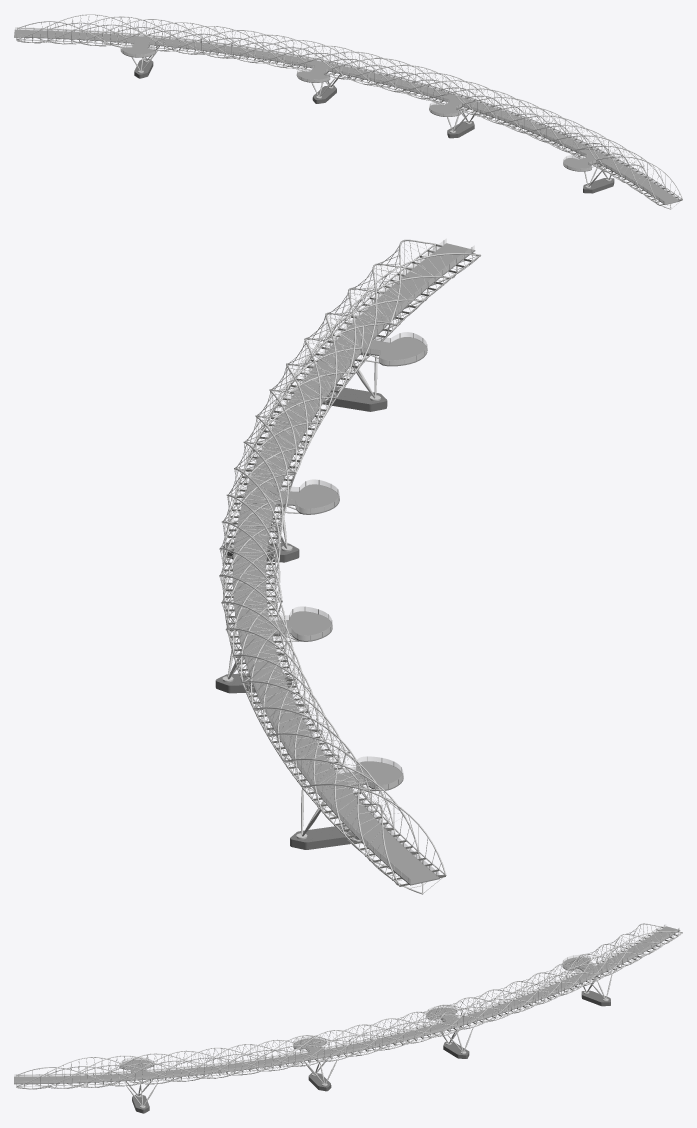
The model's file is helix_bridge.glb.
The picture shows the model from 3 angles, top to bottom: view 1: azimuth 30°, elevation 25°; view 2: azimuth 150°, elevation 25°; view 3: azimuth 270°, elevation 25°; orthographic projection. The views are drawn at different scales.
Visible parts, largest first — view 1: helixcurve_Custom_0, helix8.001_Material.003_0, helix6.001_Material.002_0, helix12_Material.001_0; view 2: helixcurve_Custom_0, helix8.001_Material.003_0, helix6.001_Material.002_0, helix12_Material.001_0; view 3: helixcurve_Custom_0, helix8.001_Material.003_0, helix6.001_Material.002_0, helix12_Material.001_0.
Part boxes in pixels (box(x1,y1,x2,y2)): helixcurve_Custom_0: box(16, 14, 682, 209); helix8.001_Material.003_0: box(14, 29, 679, 204); helix6.001_Material.002_0: box(14, 27, 679, 203); helix12_Material.001_0: box(16, 29, 682, 205); helixcurve_Custom_0: box(219, 239, 480, 894); helix8.001_Material.003_0: box(215, 243, 475, 885); helix6.001_Material.002_0: box(234, 239, 474, 883); helix12_Material.001_0: box(224, 244, 480, 886); helixcurve_Custom_0: box(16, 923, 682, 1108); helix8.001_Material.003_0: box(14, 926, 680, 1113); helix6.001_Material.002_0: box(14, 924, 679, 1083); helix12_Material.001_0: box(16, 926, 679, 1086).
Bounding box in the file's own units: 137 × 19.73 × 241.
Materials: 4 (4 with a texture image).
